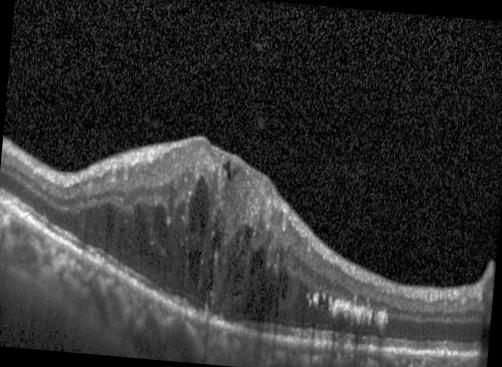intraretinal_cyst: (187, 175, 210, 288), (242, 270, 280, 319), (222, 249, 250, 294), (134, 201, 154, 257), (204, 232, 222, 292), (152, 204, 171, 256), (169, 200, 187, 246), (102, 202, 115, 238), (249, 247, 265, 276), (166, 187, 176, 216), (243, 224, 254, 245), (281, 273, 289, 298), (222, 161, 231, 180)
